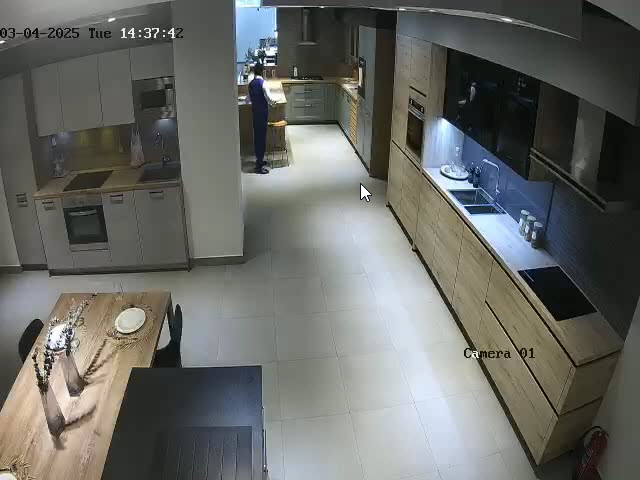employee: (247, 63, 274, 175)
